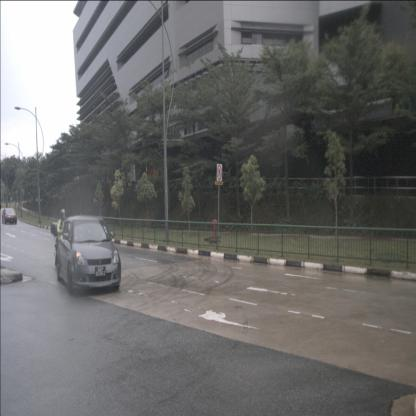vehicle-bicycle: (51, 208, 75, 273)
vehicle-car: (56, 213, 122, 296), (1, 207, 18, 225)
